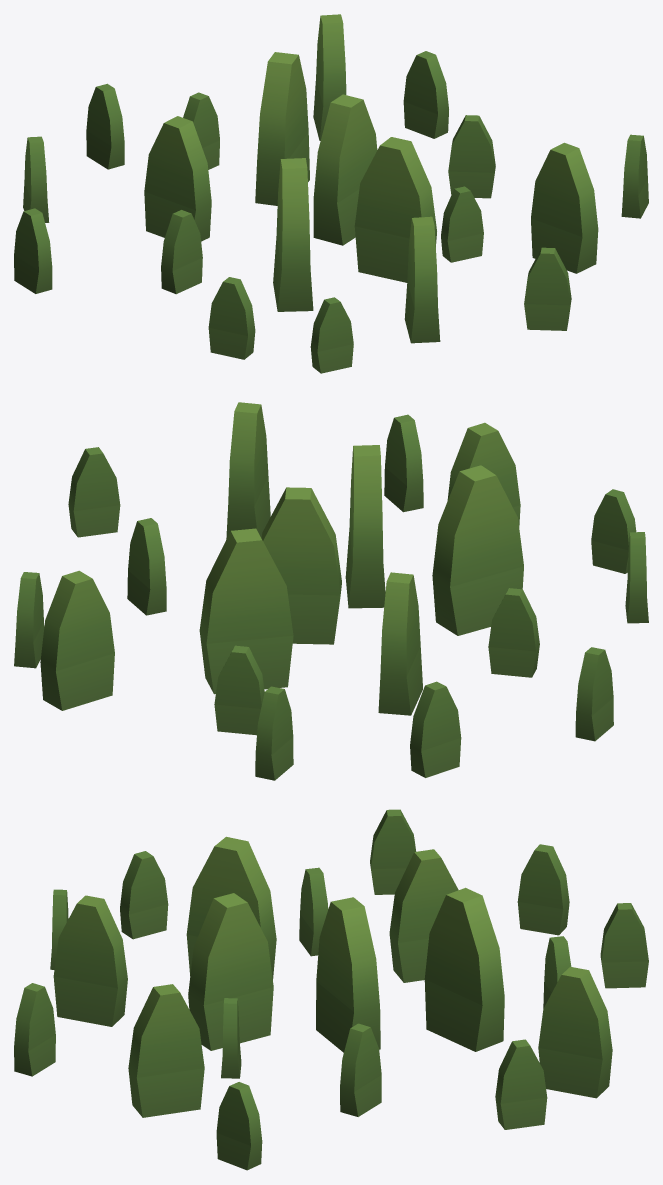
File: grassBlades1.fbx
3 views of the same model, one above another, from view 1: azimuth 30°, elevation 25°; view 2: azimuth 150°, elevation 25°; view 3: azimuth 270°, elevation 25° (orthographic). The views are drawn at different scales.
Parts seen in each view (by area): view 1: grassTuft_1.001; view 2: grassTuft_1.001; view 3: grassTuft_1.001.
Part boxes in pixels (x1,y1,x2,y2): grassTuft_1.001: (14, 14, 648, 373); grassTuft_1.001: (14, 402, 648, 780); grassTuft_1.001: (14, 809, 648, 1170).
Bounding box in the file's own units: 220 × 207 × 50.56.
